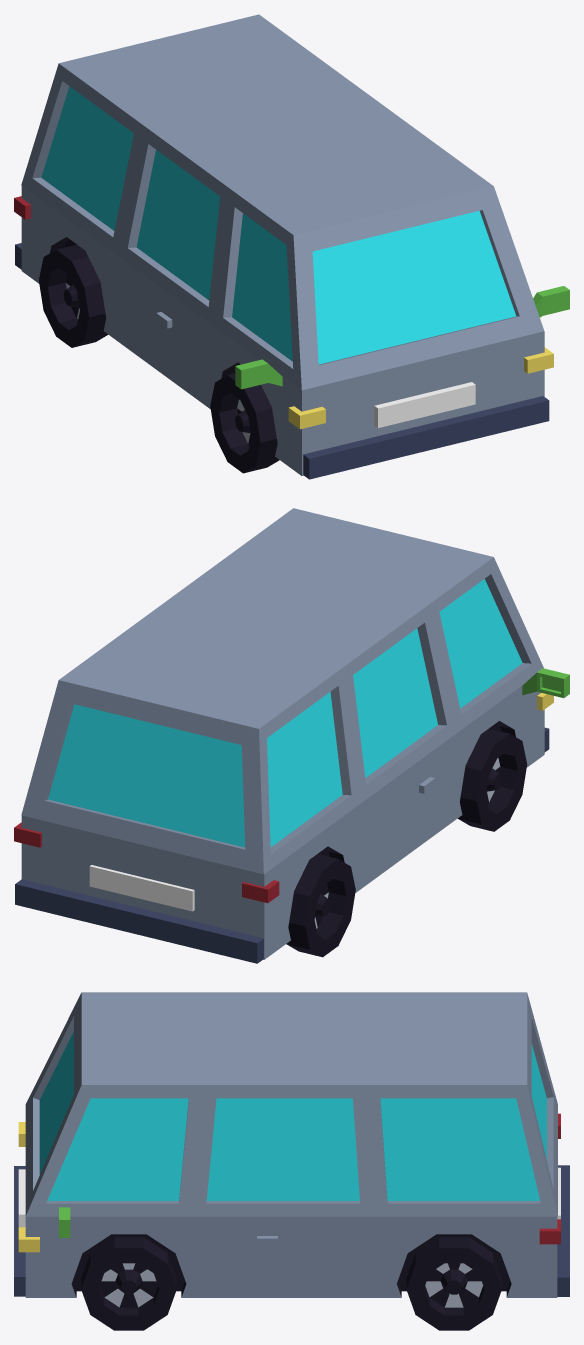
The model's file is car6.fbx.
The picture shows the model from 3 angles, top to bottom: view 1: azimuth 30°, elevation 25°; view 2: azimuth 150°, elevation 25°; view 3: azimuth 270°, elevation 25°; orthographic projection. The views are drawn at different scales.
Parts seen in each view (by area): view 1: Car-grey; view 2: Car-grey; view 3: Car-grey.
Boxes of the visible parts, box(x1,y1,x2,y2) form: Car-grey: box(14, 14, 569, 479); Car-grey: box(14, 508, 569, 963); Car-grey: box(14, 992, 569, 1330).
Size of the model in its own units: 2.71 by 1.91 by 4.18.
